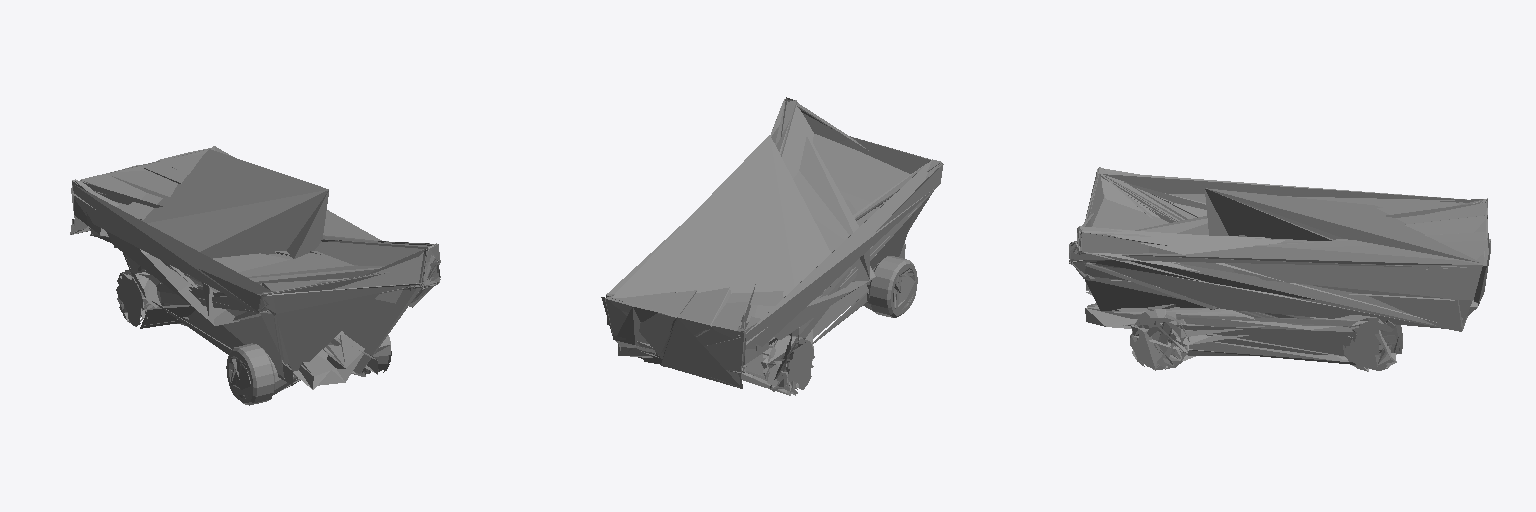
Rendered from RUSTYTRUCK.obj.
3 views of the same model, side by side, from view 1: azimuth 30°, elevation 25°; view 2: azimuth 150°, elevation 25°; view 3: azimuth 270°, elevation 25° (orthographic).
Visible parts, largest first — view 1: RTRUCK_BODY, RTRUCK_WHEEL_BACK_R; view 2: RTRUCK_BODY, RTRUCK_WHEEL_BACK_R; view 3: RTRUCK_BODY.
Boxes of the visible parts, x1=… form: RTRUCK_BODY: x1=70, y1=146, x2=440, y2=402; RTRUCK_WHEEL_BACK_R: x1=226, y1=343, x2=300, y2=404; RTRUCK_BODY: x1=601, y1=97, x2=943, y2=395; RTRUCK_WHEEL_BACK_R: x1=867, y1=256, x2=917, y2=316; RTRUCK_BODY: x1=1069, y1=167, x2=1490, y2=371.
Size of the model in its own units: 138 by 132 by 296.